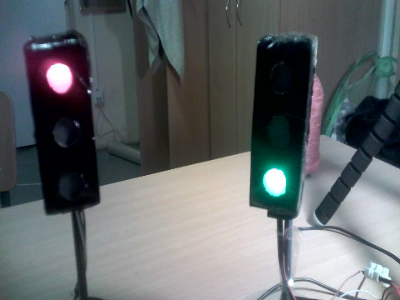trafficlight_green: (253, 45, 306, 207)
trafficlight_red: (35, 47, 92, 206)
